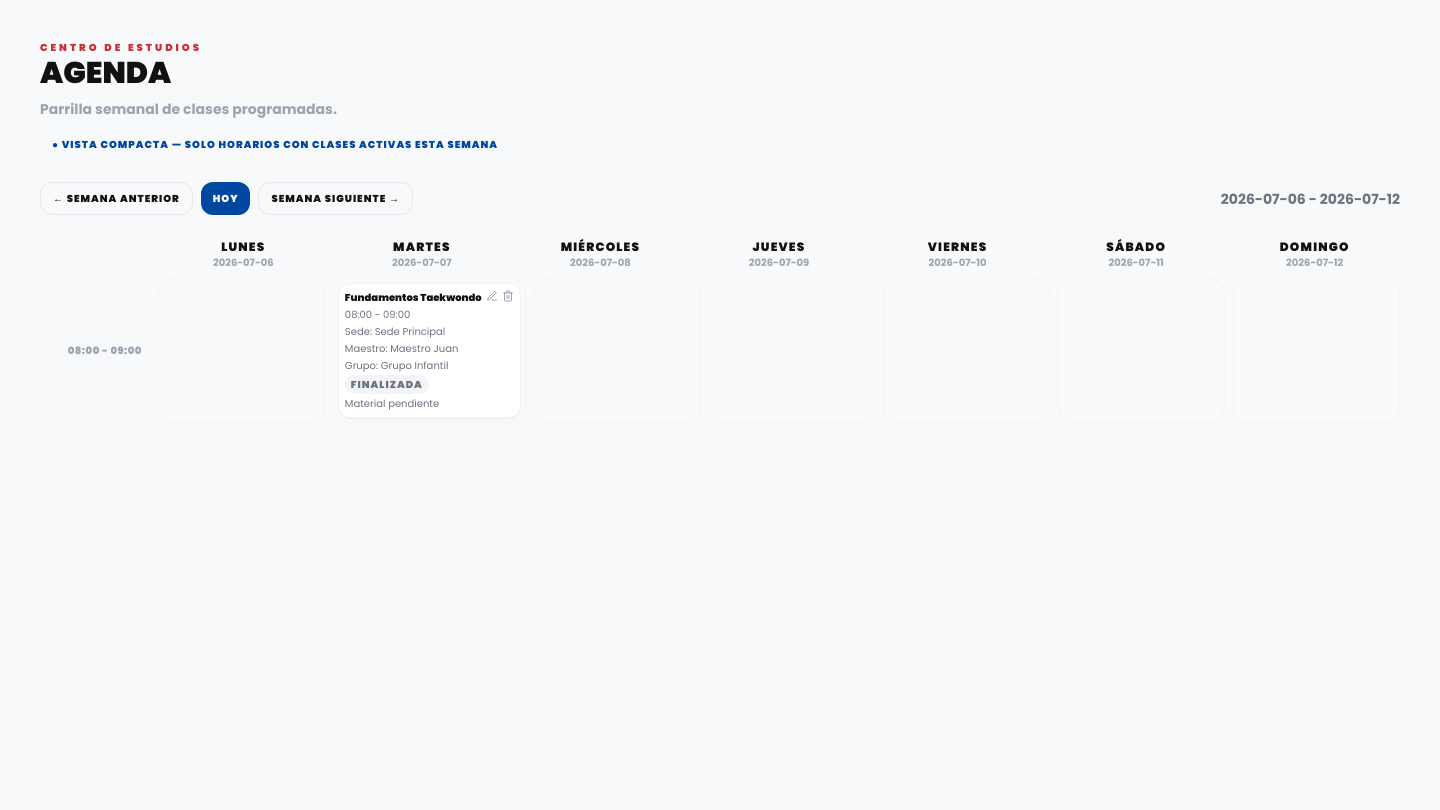
Extension: icono de eliminar en el bloque de la parrilla › click en el icono de eliminar muestra la confirmacion (alertdialog) SIN abrir el modal de edicion completo
What coordinates should you click on to do the following:
click the button named "eliminar clase"
I would click on:
 (508, 296)
Its box is [502,290,514,302].
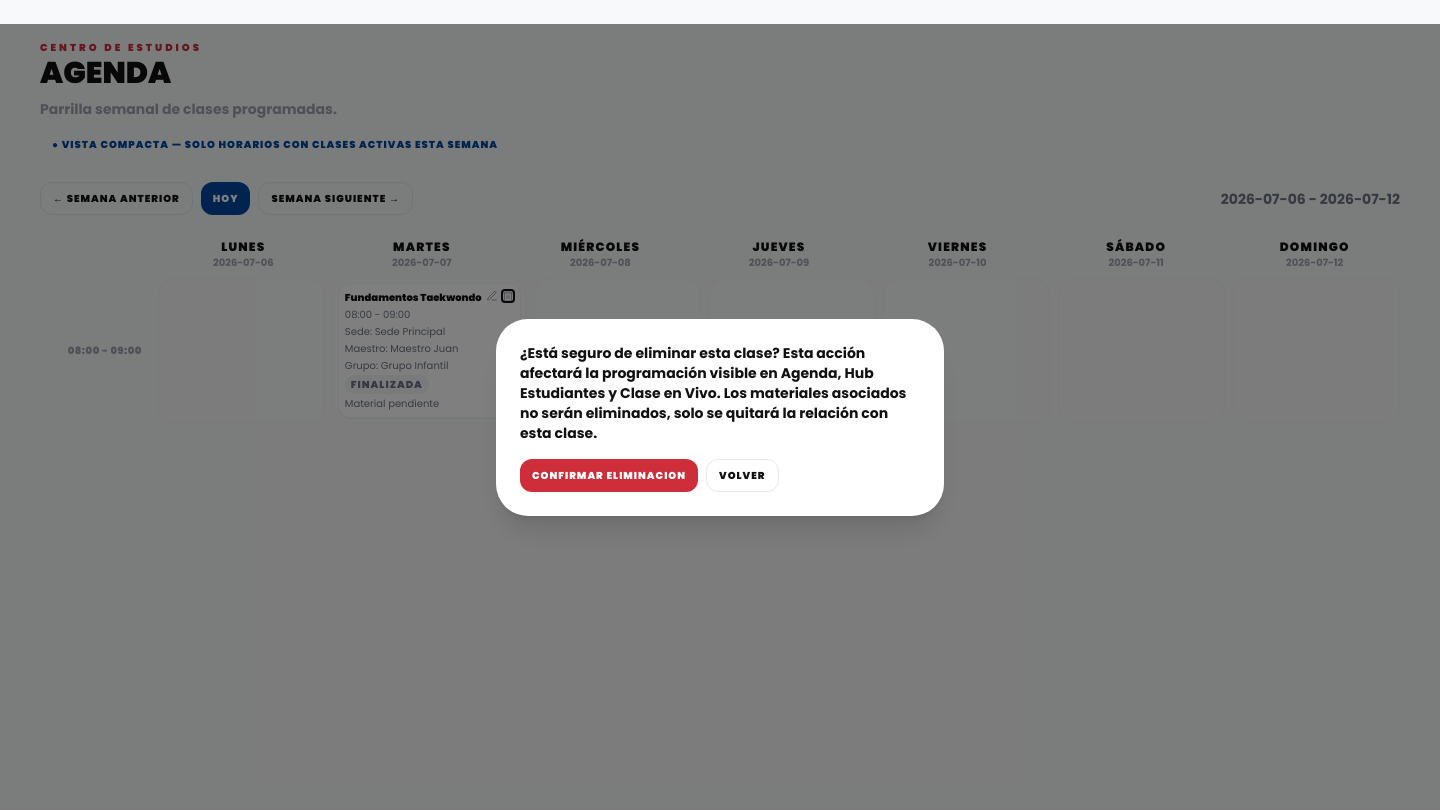
Expected: the dialog is shown
Expected: the text "seguro de eliminar esta clase" is shown, [520,342,906,442]
